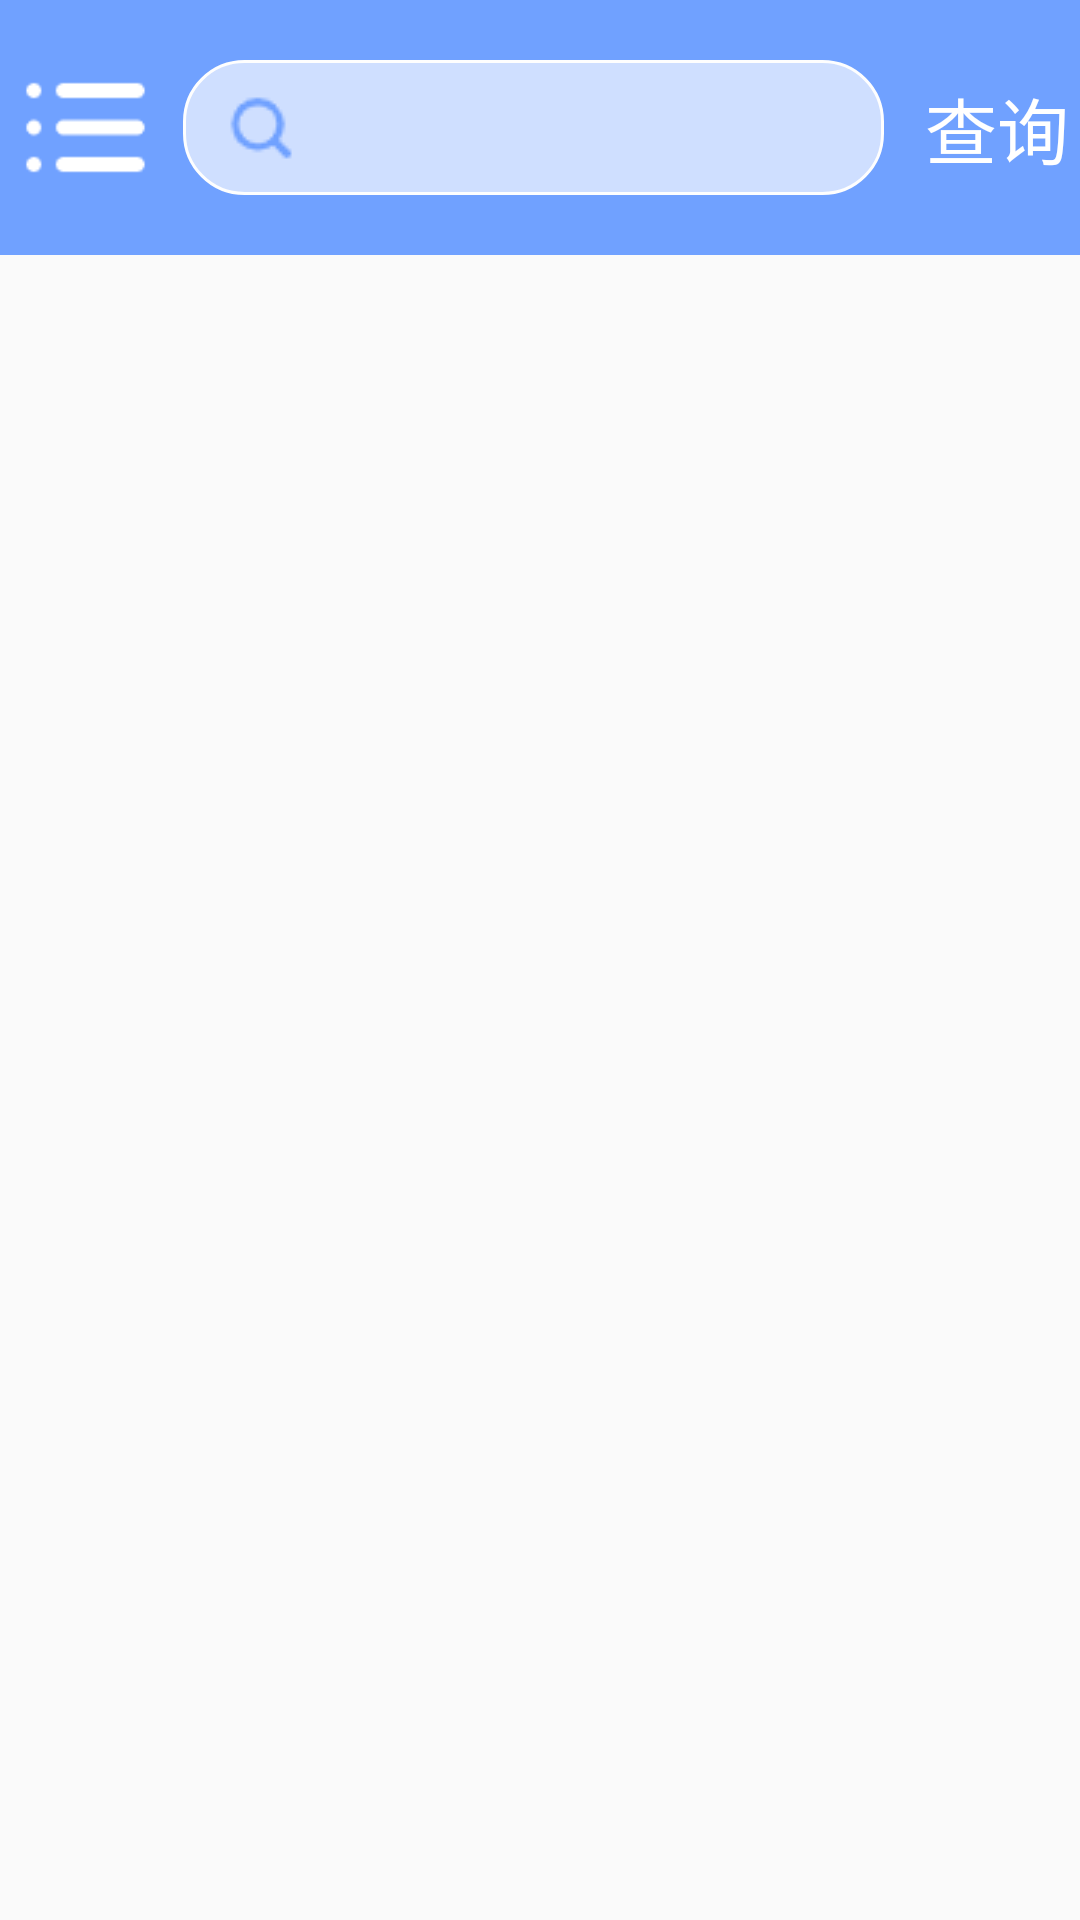

Where to tap for icons on this 1080×1920 app screen, as point (x, y):
list: point (85, 127)
